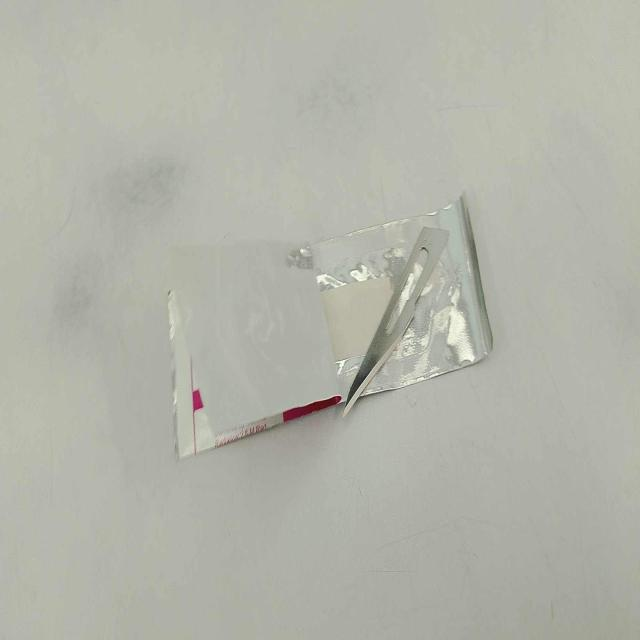General: (165, 190, 494, 462)
